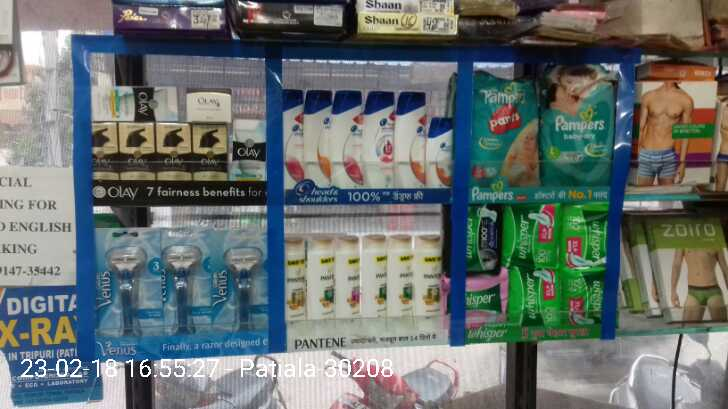venus: (102, 228, 158, 333), (211, 232, 269, 328), (159, 223, 210, 328)
